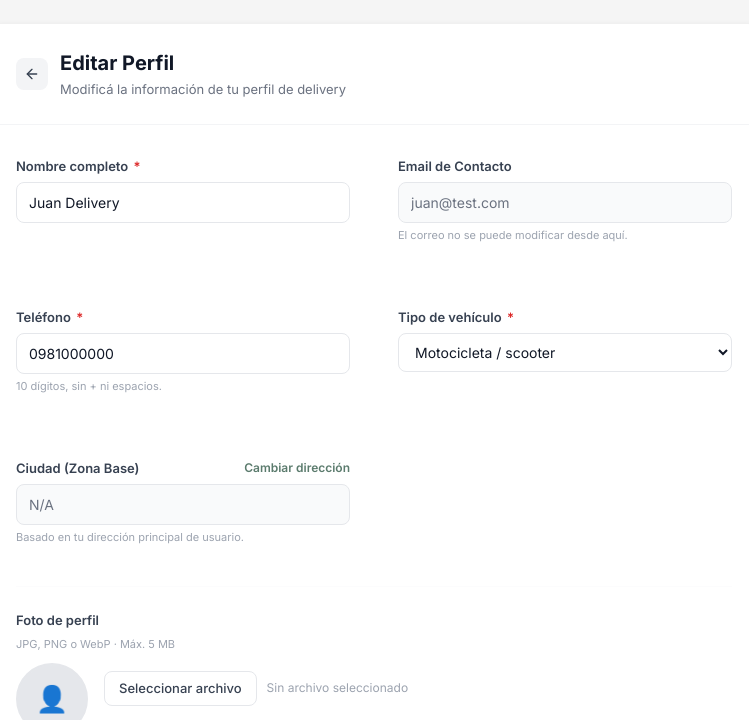
Test case: DeliveryEditProfilePage › Validaciones › muestra error si se intenta guardar con teléfono vacío
Step 1. Clear the field showing "0981000000" → (183, 354), box [16,333,350,374]
(page scrolled)
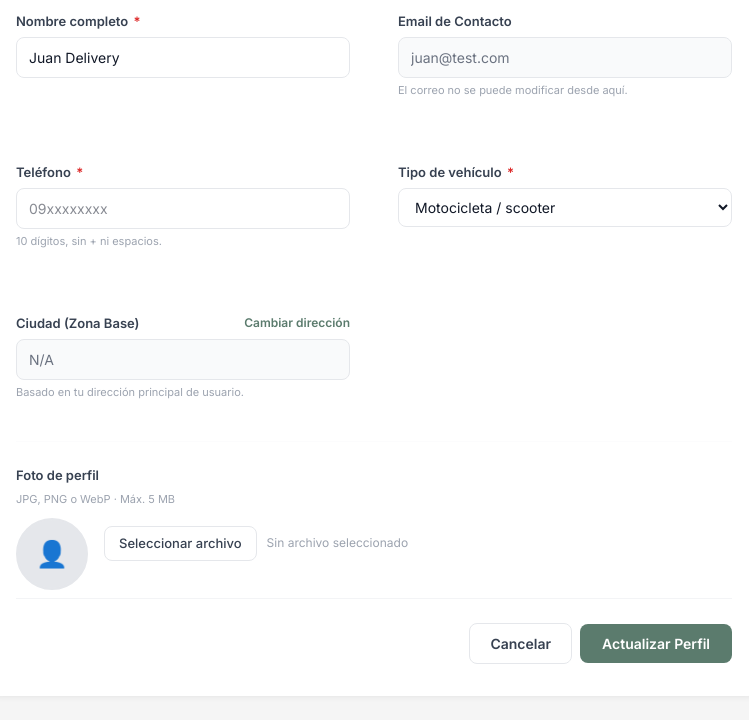
Step 2. Click the button "Actualizar Perfil" → (656, 643), box [580,624,732,662]
(page scrolled)
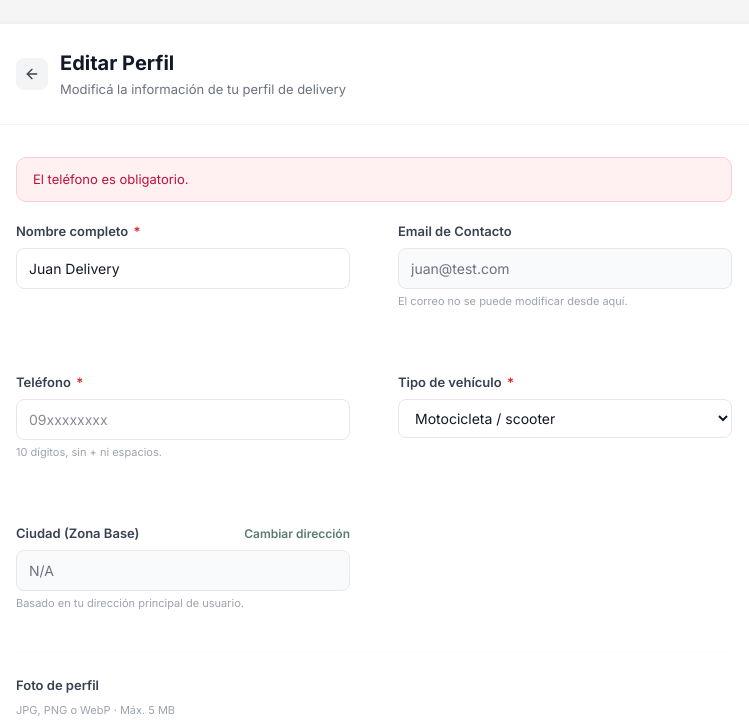
Expected: the text "El teléfono es obligatorio." is shown, [16,156,732,202]
